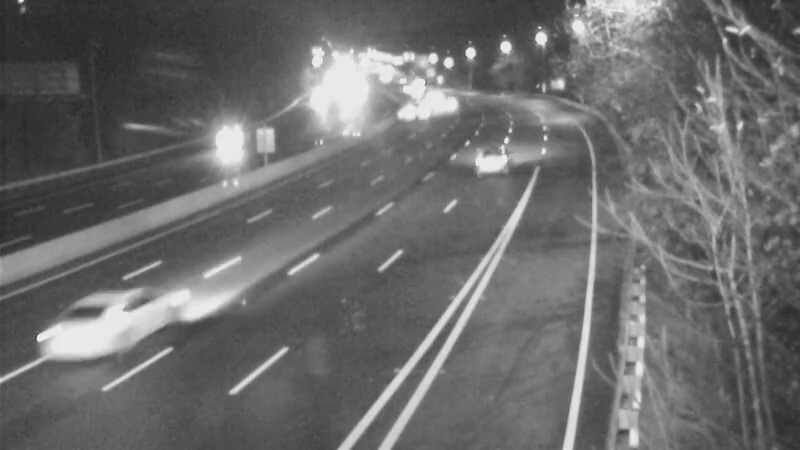vehicle: (24, 274, 134, 384), (450, 119, 530, 199), (421, 78, 471, 128), (384, 85, 434, 135), (196, 123, 246, 173)
